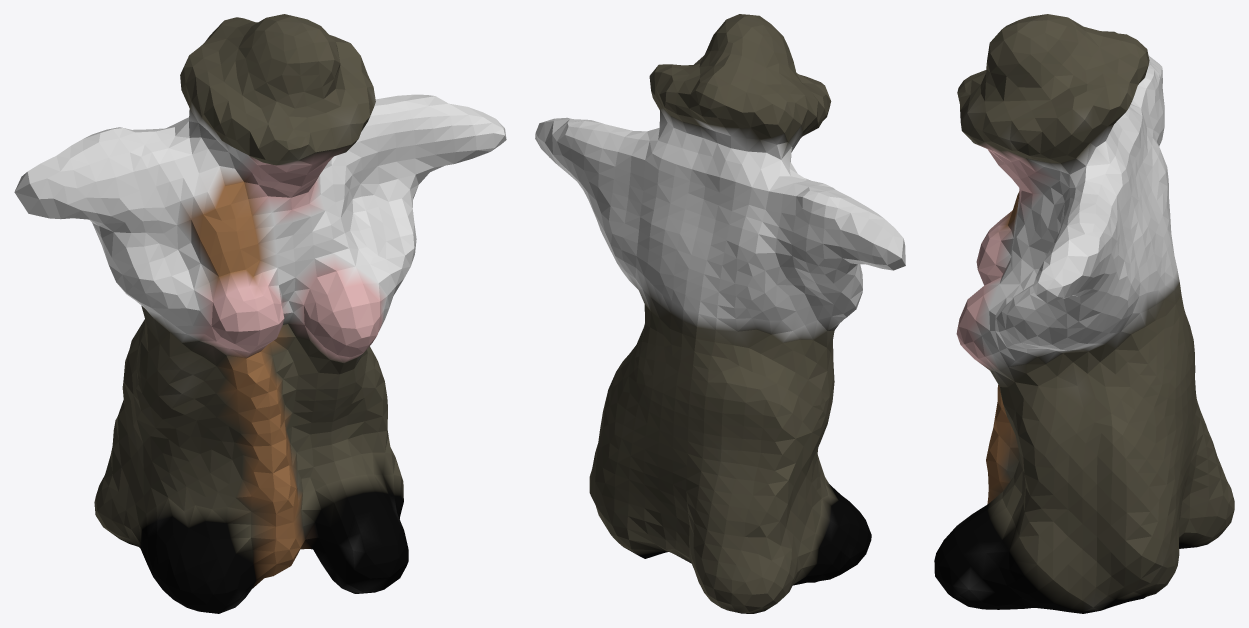
File: Miner.glb
3 views of the same model, side by side, from view 1: azimuth 30°, elevation 25°; view 2: azimuth 150°, elevation 25°; view 3: azimuth 270°, elevation 25° (orthographic). The views are drawn at different scales.
Parts seen in each view (by area): view 1: Sphere; view 2: Sphere; view 3: Sphere.
Boxes of the visible parts, bbox=[...] form: Sphere: bbox=[14, 14, 506, 613]; Sphere: bbox=[535, 14, 905, 613]; Sphere: bbox=[934, 14, 1234, 613].
Bounding box in the file's own units: 1.71 × 2.1 × 1.
